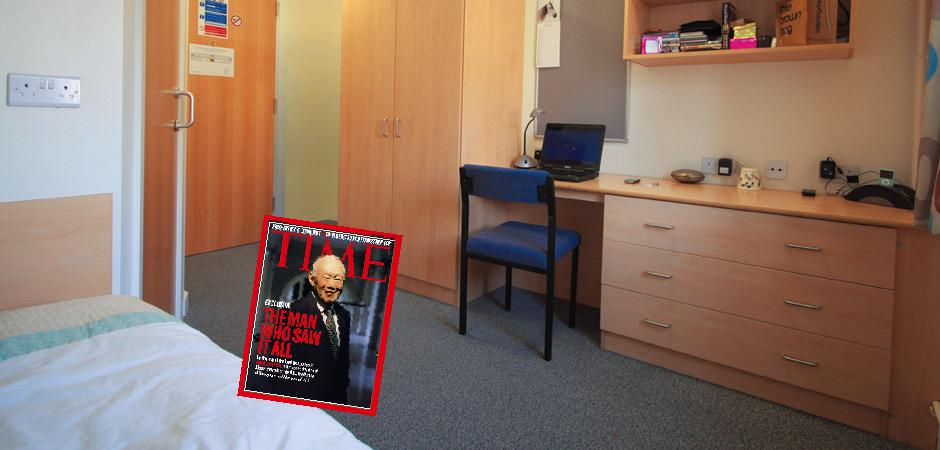times: (236, 212, 405, 416)
